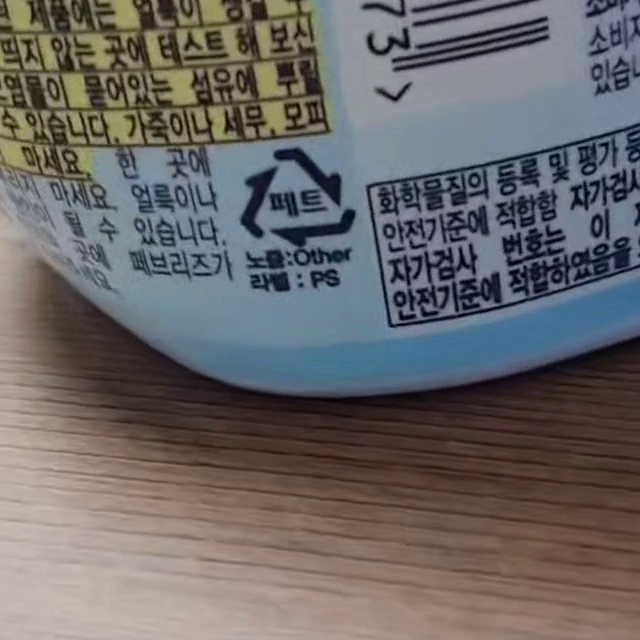Plastic: (239, 146, 355, 245)
